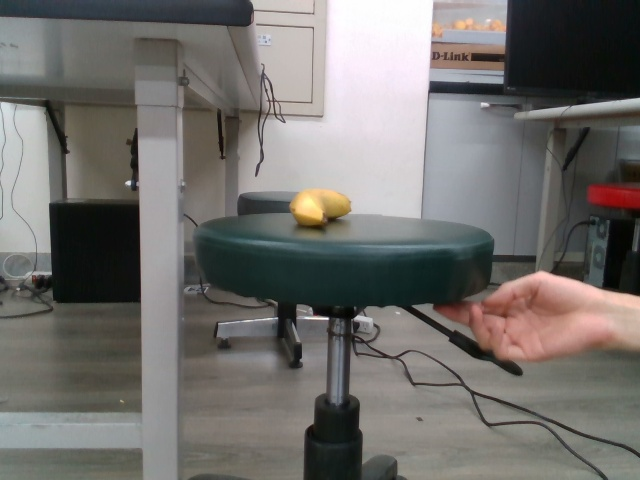banana: (290, 186, 356, 227)
